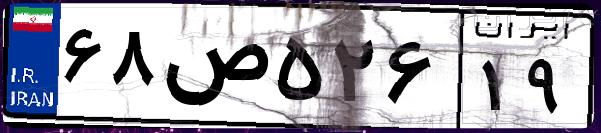1: (475, 38, 525, 113)
2: (330, 28, 385, 110)
5: (270, 28, 330, 110)
6: (385, 28, 445, 110), (57, 26, 110, 100)
8: (110, 28, 158, 98)
9: (525, 38, 570, 115)
ص: (158, 20, 270, 120)
